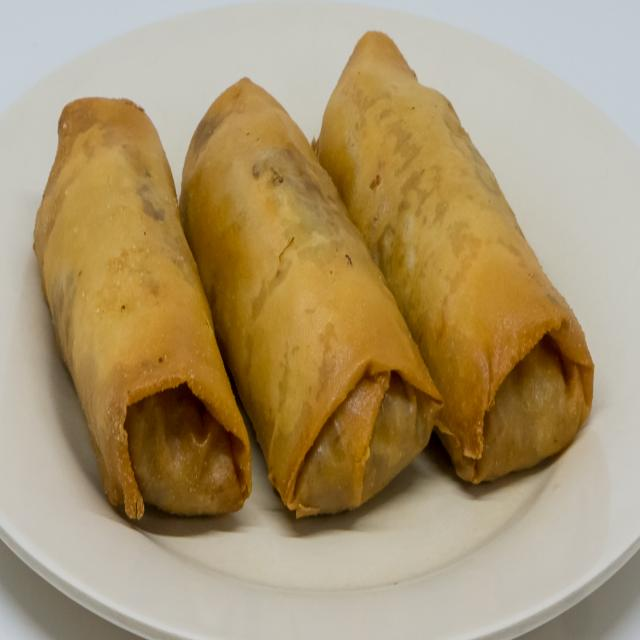Lumpia-Semarang: (25, 15, 604, 551)
